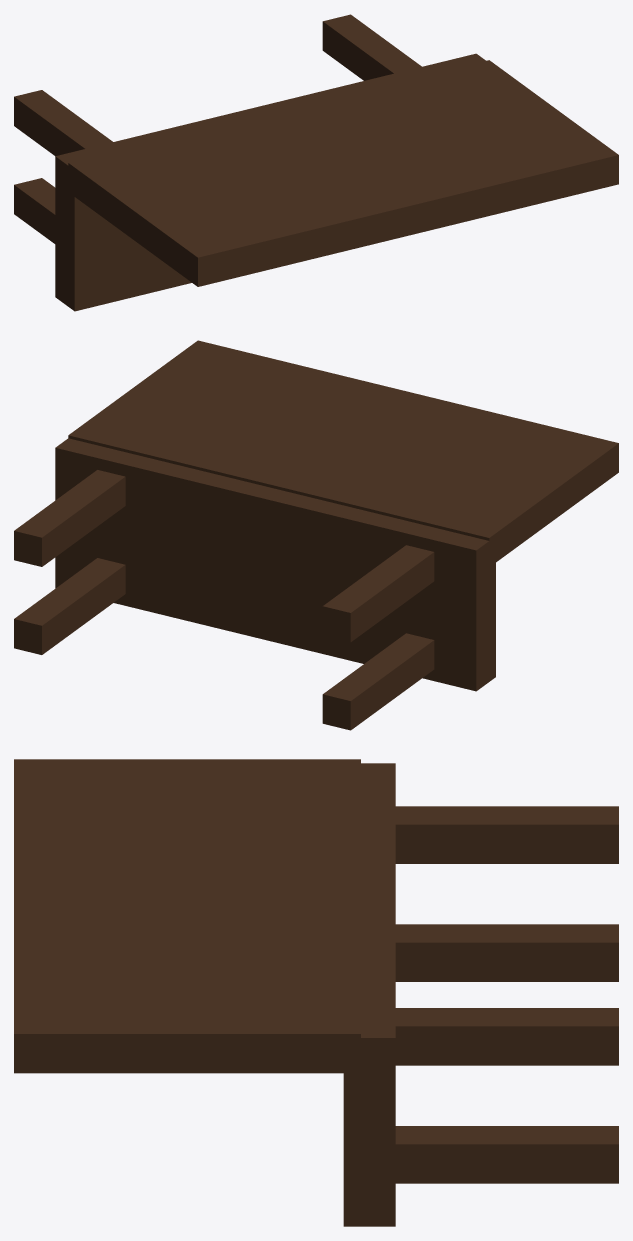
File: SM_BreeTavernBench.obj
3 views of the same model, one above another, from view 1: azimuth 30°, elevation 25°; view 2: azimuth 150°, elevation 25°; view 3: azimuth 270°, elevation 25° (orthographic). The views are drawn at different scales.
Parts seen in each view (by area): view 1: SM_BreeTavernBench; view 2: SM_BreeTavernBench; view 3: SM_BreeTavernBench.
Boxes of the visible parts, x1,y1,x2,y2 form: SM_BreeTavernBench: (14,14,618,311); SM_BreeTavernBench: (14,340,618,730); SM_BreeTavernBench: (14,759,618,1226).
Bounding box in the file's own units: 150 × 49 × 140.
